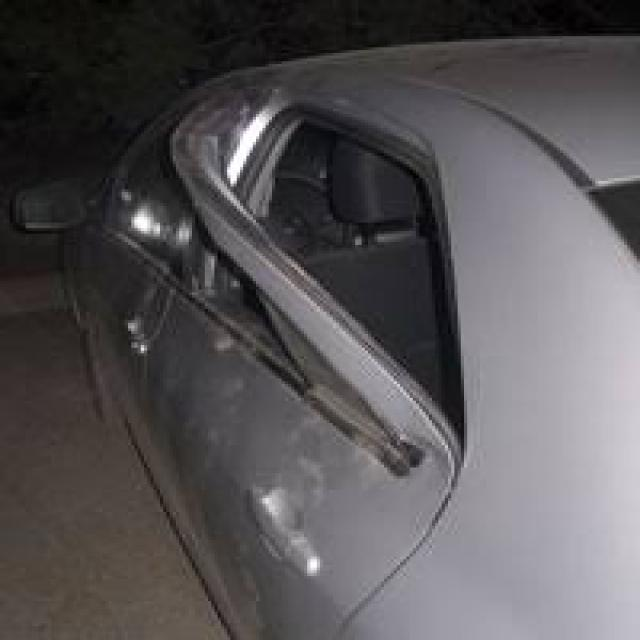damaged-door: (140, 67, 458, 640)
